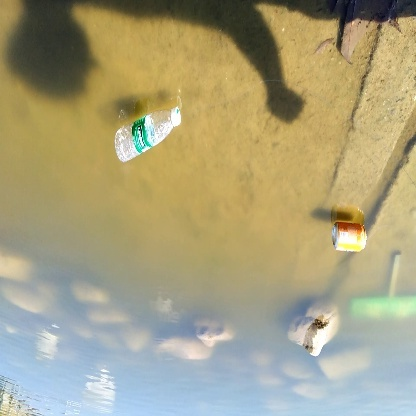bottle: (111, 105, 185, 170), (327, 216, 372, 260)
